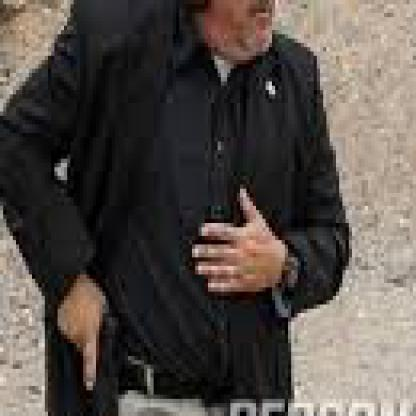gun: (67, 296, 138, 412)
